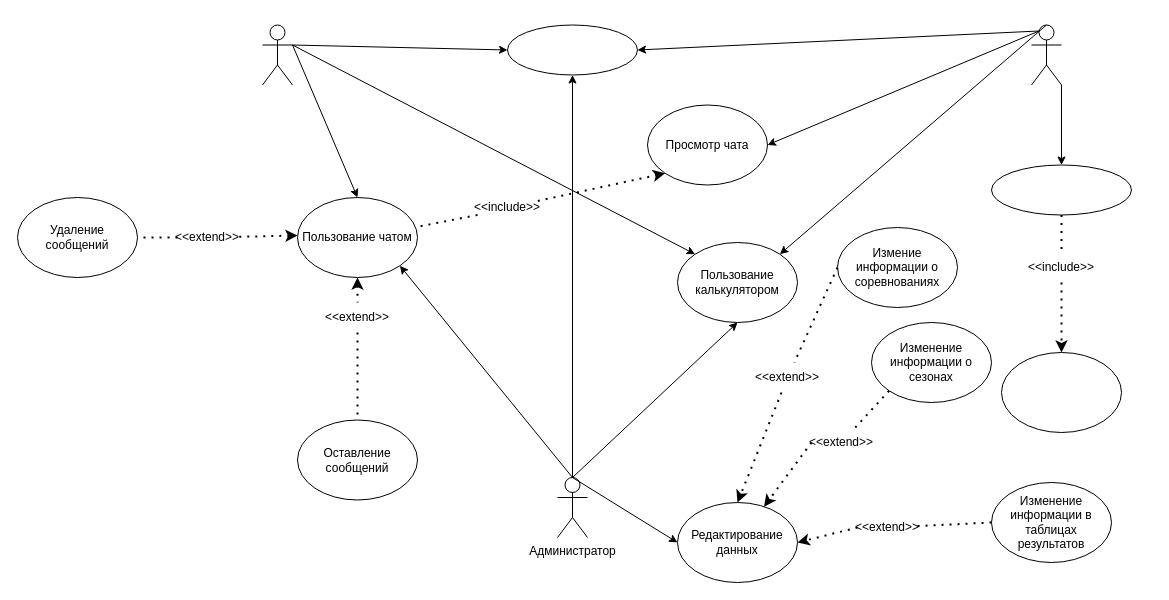
The diagram is 1169 pixels wide and 600 high, and some of its shapes have lost their labels. Here are the shapes that lost their labels. From the top down, the box of each, then its label:
(262, 24, 292, 85): Зарегестрированный пользователь
(506, 24, 638, 75): Просмотр таблиц сореванаваний
(1030, 24, 1062, 85): Незарегестрированный пользователь
(990, 164, 1132, 215): Регистрация
(1000, 352, 1122, 432): Заполнение пользовательских данных
